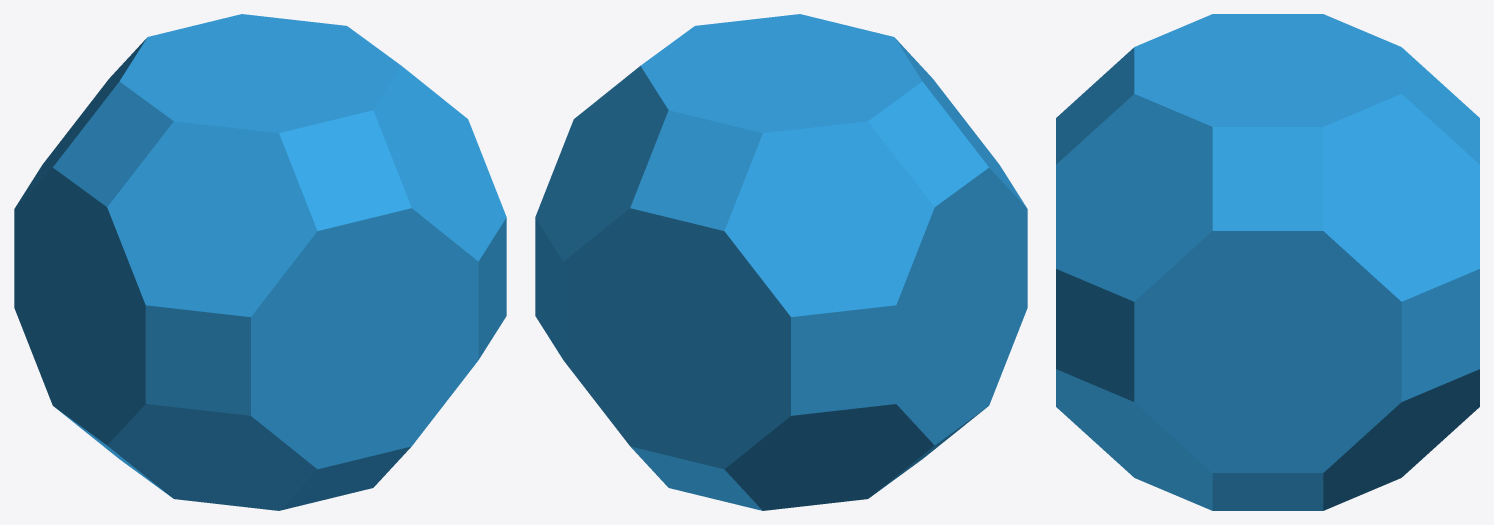
The model's file is truncatedcuboctahedron.gltf.
3 renders of one model, left to right at view 1: azimuth 30°, elevation 25°; view 2: azimuth 150°, elevation 25°; view 3: azimuth 270°, elevation 25°, orthographic.
Parts seen in each view (by area): view 1: Solid.002; view 2: Solid.002; view 3: Solid.002.
Part boxes in pixels (left/top/right/bottom): Solid.002: left=14, top=14, right=506, bottom=510; Solid.002: left=535, top=14, right=1027, bottom=510; Solid.002: left=1056, top=14, right=1479, bottom=510.
Size of the model in its own units: 1.15 by 1.15 by 1.15.
